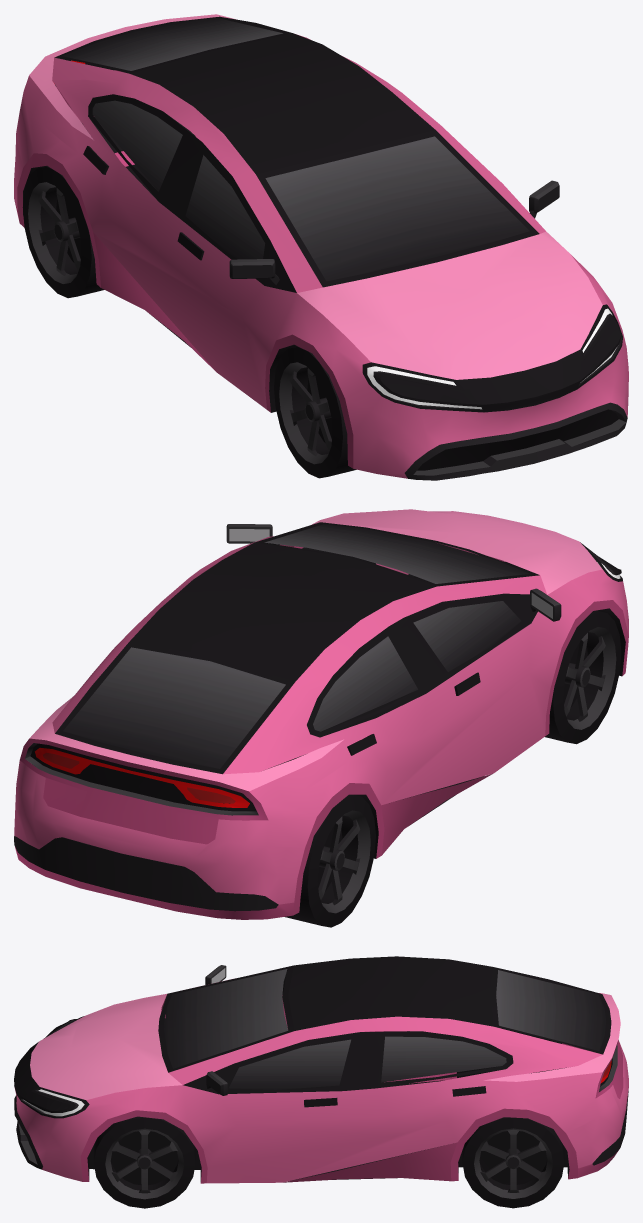
The model's file is Car5.glb.
3 renders of one model, top to bottom at view 1: azimuth 30°, elevation 25°; view 2: azimuth 150°, elevation 25°; view 3: azimuth 270°, elevation 25°, orthographic. The views are drawn at different scales.
Parts seen in each view (by area): view 1: unityexport_ColorVar3_Material_0.002; view 2: unityexport_ColorVar3_Material_0.002; view 3: unityexport_ColorVar3_Material_0.002.
Part boxes in pixels (x1,y1,x2,y2): unityexport_ColorVar3_Material_0.002: (14, 14, 628, 480); unityexport_ColorVar3_Material_0.002: (14, 509, 628, 927); unityexport_ColorVar3_Material_0.002: (14, 956, 628, 1208).
Size of the model in its own units: 21.18 by 14.19 by 45.91.
Materials: 3 (3 with a texture image).
